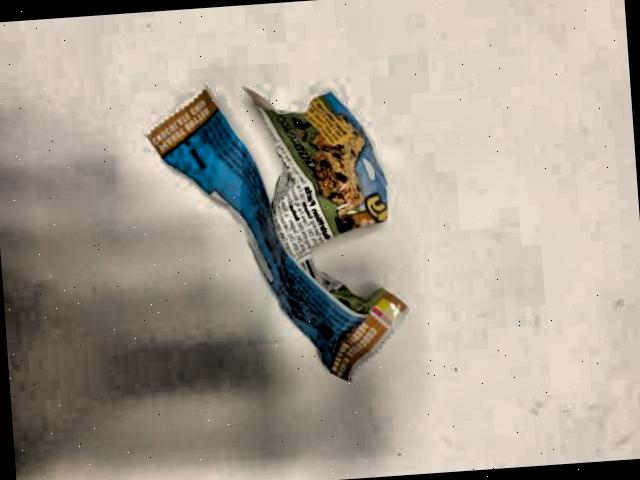Plastic: (119, 56, 435, 394)
